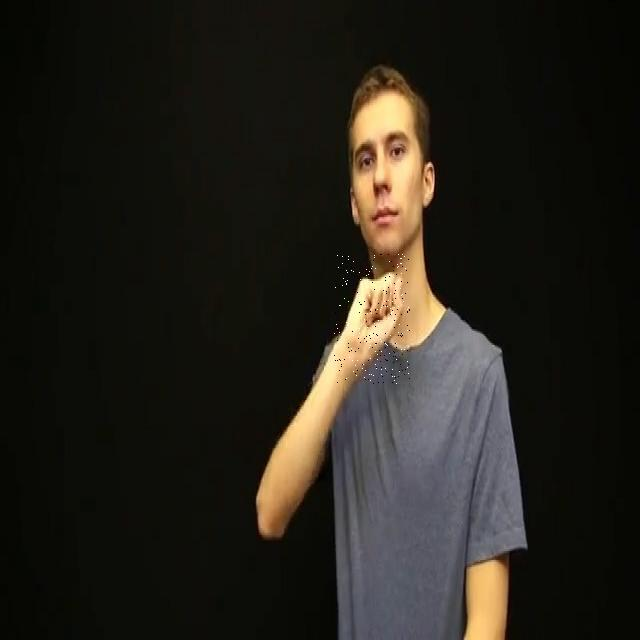icecream: (334, 254, 410, 384)
